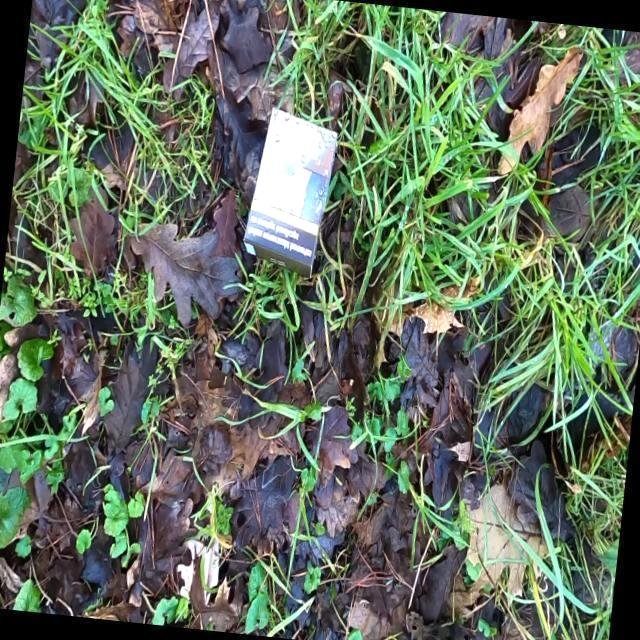Paper: (239, 103, 339, 281)
